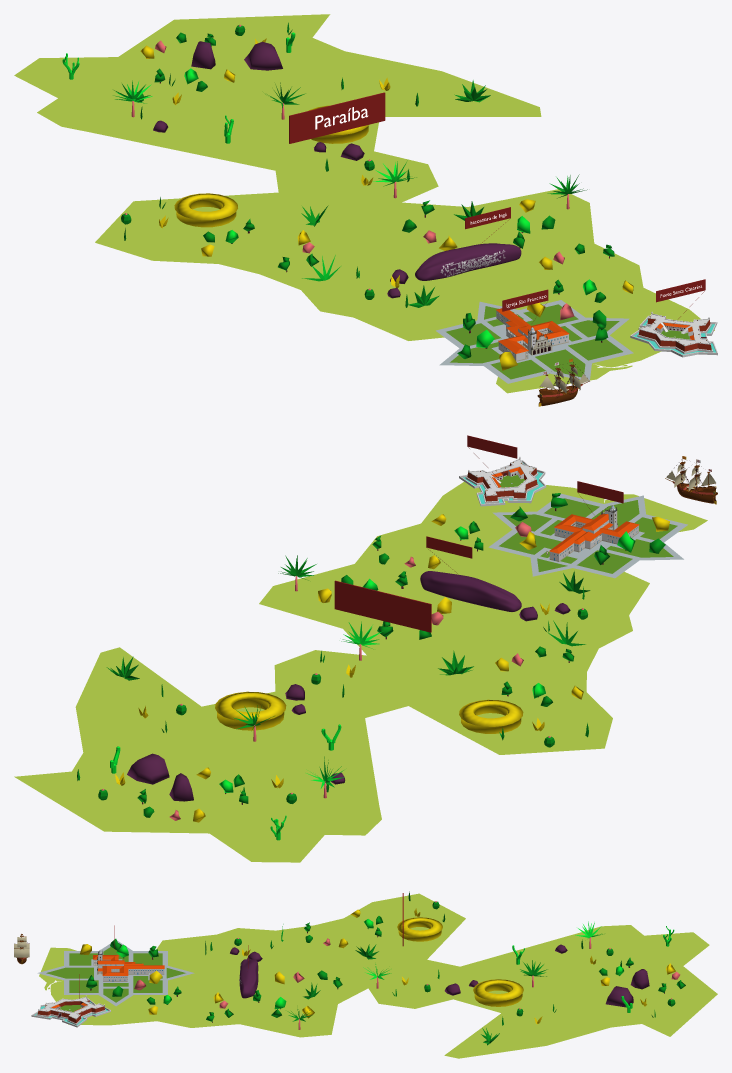
Rendered from proj.glb.
The picture shows the model from 3 angles, top to bottom: view 1: azimuth 30°, elevation 25°; view 2: azimuth 150°, elevation 25°; view 3: azimuth 270°, elevation 25°; orthographic projection. The views are drawn at different scales.
Parts seen in each view (by area): view 1: pb, Plane.095, Plane.044, Inga, Cylinder.005, Cube.083, Cube.033, Cube.021, Cube.022, Cube.002, Plane.012, Cube.036 (+1 smaller); view 2: pb, Plane.095, Plane.044, Inga, Cylinder.008, Cylinder.005, Cube.083, Cube.033, Cube.021, Cube.036, Plane.012, Cube.022 (+2 smaller); view 3: pb, Plane.095, Cylinder.008, Cylinder.005, Cube.083, Cube.033, Inga, Cube.022, Cube.002, Plane.012, Cube.021, Cube.010 (+5 smaller).
Part boxes in pixels (<box>): pb: <box>14,14,714,393</box>; Plane.095: <box>436,300,633,383</box>; Plane.044: <box>289,92,385,143</box>; Inga: <box>415,243,521,280</box>; Cylinder.005: <box>174,193,237,227</box>; Cube.083: <box>457,302,608,370</box>; Cube.033: <box>402,199,555,250</box>; Cube.021: <box>201,219,319,272</box>; Cube.022: <box>539,243,633,302</box>; Cube.002: <box>140,32,235,91</box>; Plane.012: <box>630,315,717,357</box>; Cube.036: <box>244,42,282,70</box>; pb: <box>14,481,707,862</box>; Plane.095: <box>488,493,687,578</box>; Plane.044: <box>334,580,431,632</box>; Inga: <box>420,571,521,611</box>; Cylinder.008: <box>215,691,286,730</box>; Cylinder.005: <box>459,699,523,733</box>; Cube.083: <box>510,493,669,564</box>; Cube.033: <box>318,571,451,639</box>; Cube.021: <box>495,646,583,706</box>; Cube.036: <box>127,753,169,784</box>; Plane.012: <box>459,460,546,506</box>; Cube.022: <box>372,514,483,569</box>; pb: <box>39,893,717,1058</box>; Plane.095: <box>37,941,194,1006</box>; Cylinder.008: <box>473,979,523,1006</box>; Cylinder.005: <box>397,917,442,941</box>; Cube.083: <box>80,938,162,996</box>; Cube.033: <box>253,970,342,1018</box>; Inga: <box>239,959,258,998</box>; Cube.022: <box>147,986,233,1022</box>; Cube.002: <box>599,957,685,993</box>; Plane.012: <box>31,998,110,1027</box>; Cube.021: <box>304,909,383,948</box>; Cube.010: <box>98,965,128,981</box>.
Bounding box in the file's own units: 29.06 × 5.4 × 52.35.
47 materials, 4 textured.
